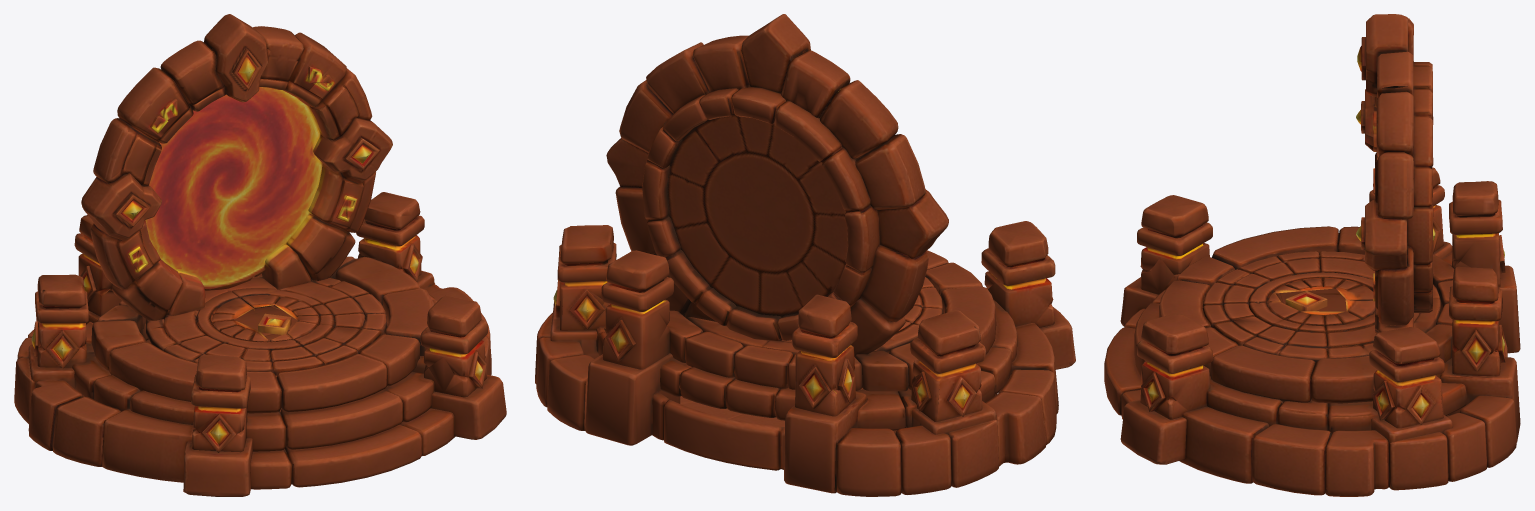
Rendered from portal ojos del salado.glb.
The picture shows the model from 3 angles, left to right: view 1: azimuth 30°, elevation 25°; view 2: azimuth 150°, elevation 25°; view 3: azimuth 270°, elevation 25°; orthographic projection. The views are drawn at different scales.
Visible parts, largest first — view 1: tripo_node_ee295ee4-44b1-45a6-b842-edba1c31c131; view 2: tripo_node_ee295ee4-44b1-45a6-b842-edba1c31c131; view 3: tripo_node_ee295ee4-44b1-45a6-b842-edba1c31c131.
Boxes of the visible parts, <box> form: tripo_node_ee295ee4-44b1-45a6-b842-edba1c31c131: <box>14,14,506,496</box>; tripo_node_ee295ee4-44b1-45a6-b842-edba1c31c131: <box>535,14,1075,496</box>; tripo_node_ee295ee4-44b1-45a6-b842-edba1c31c131: <box>1104,14,1520,496</box>.
Bounding box in the file's own units: 0.9995 × 0.7983 × 0.7964.
1 material, 1 textured.
